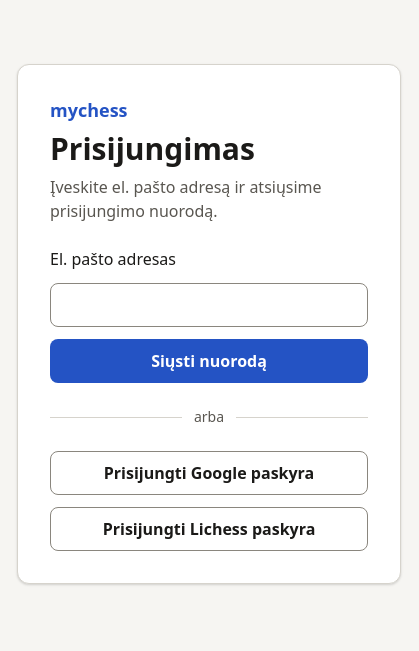
Scenario: SignInForm › shows the general error for any other refusal
In the field labelled "El. pašto adresas": (209,305) [50,283,368,327], type "ruta@example.lt"
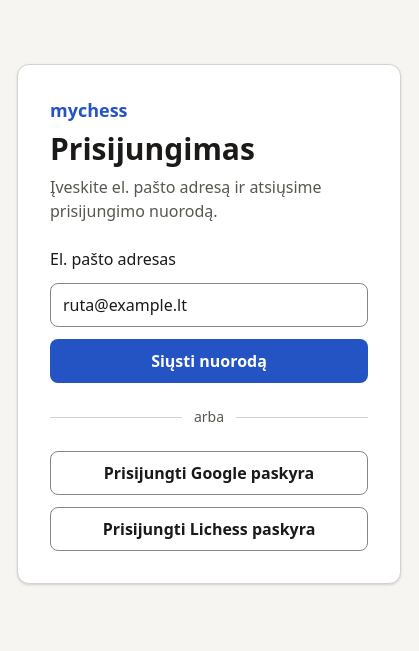
Click the button "Siųsti nuorodą": (209,361) [50,339,368,383]
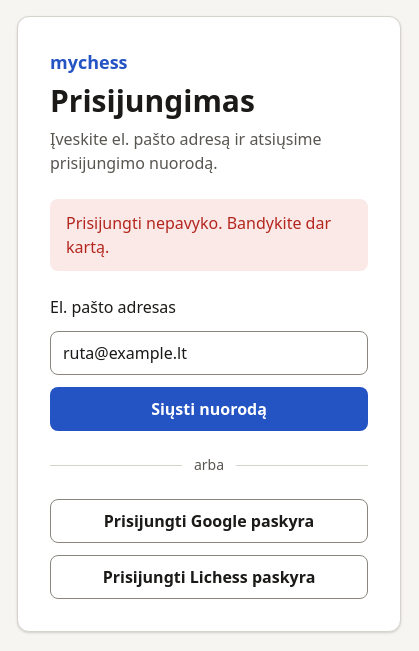
Now the message reads "Prisijungti nepavyko. Bandykite dar kartą.", box [66,212,331,258]
